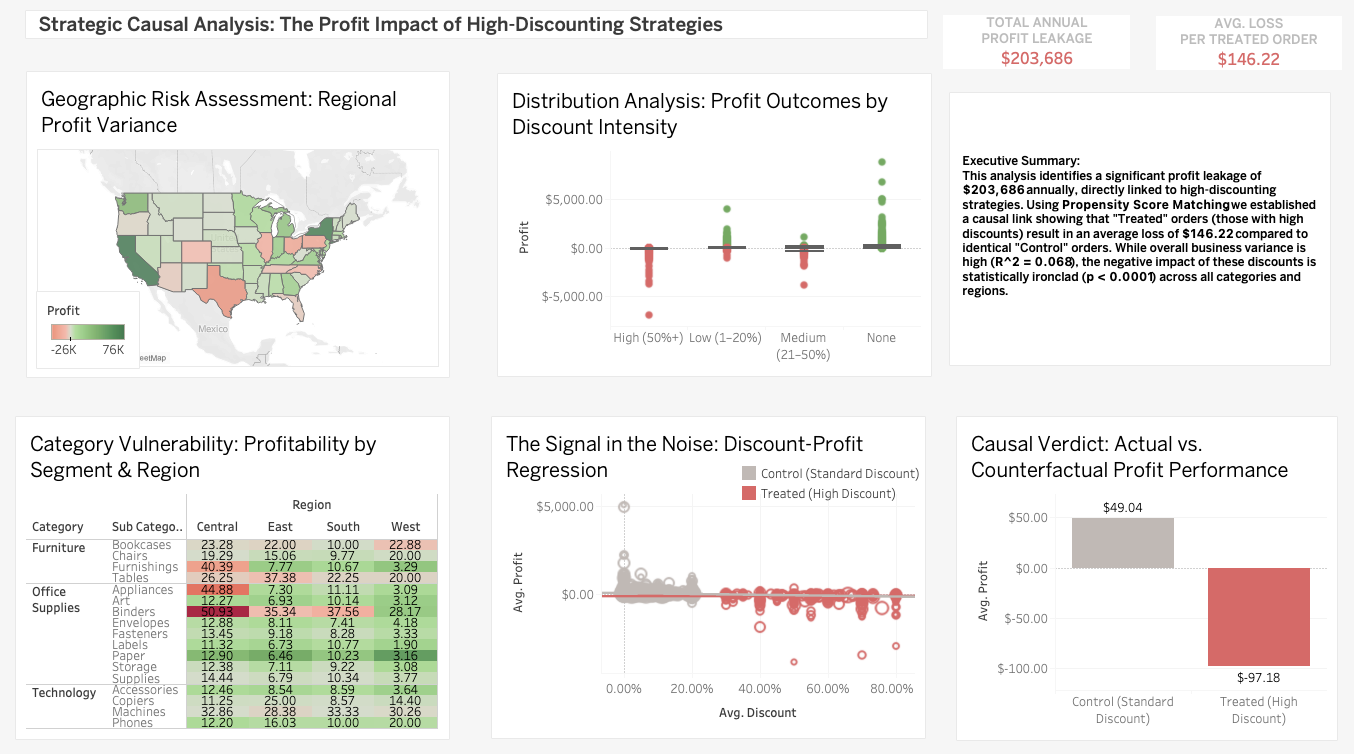

Layout of this report page (visuals, bound fields, positions):
{"tool":"tableau","page":{"name":"Dashboard 4","canvas":[1366,768],"ordinal":0},"visuals":[{"type":"text","box":[16,6,923,49]},{"type":"worksheet","title":"Sheet 10","mark":"Automatic","box":[940,17,195,62]},{"type":"worksheet","title":"Sheet 11","mark":"Automatic","box":[1153,18,194,62]},{"type":"worksheet","title":"Sheet 6","mark":"Automatic","box":[17,67,444,327]},{"type":"worksheet","title":"Sheet 5","mark":"Circle","rows":["profit"],"cols":["discount_bin"],"box":[488,69,455,324]},{"type":"text","box":[940,88,402,294]},{"type":"legend","title":"Sheet 6","param":"[federated.165vwj91f5bvqc13ddn6w0i8qt7e].[sum:profit:qk]","box":[37,297,104,78]},{"type":"worksheet","title":"Sheet 7","mark":"Square","rows":["category","sub_category"],"cols":["region"],"box":[6,412,455,344]},{"type":"worksheet","title":"Sheet 9","mark":"Automatic","rows":["profit"],"cols":["discount"],"box":[482,412,455,343]},{"type":"worksheet","title":"Sheet 8","mark":"Bar","rows":["profit"],"cols":["is_treated"],"box":[947,412,402,345]},{"type":"legend","title":"Sheet 9","param":"[federated.165vwj91f5bvqc13ddn6w0i8qt7e].[none:is_treated:ok]","box":[740,469,185,40]}]}

Visuals, with their boxes in screenshot pixels (x1, y1, x2, y2), scaled from the page's 1366x768 canvas onto the 1354x754 screenshot:
text: <box>16,6,931,54</box>
"Sheet 10" worksheet: <box>932,17,1125,78</box>
"Sheet 11" worksheet: <box>1143,18,1335,79</box>
"Sheet 6" worksheet: <box>17,66,457,387</box>
"Sheet 5" worksheet (Circle marks): <box>484,68,935,386</box>
text: <box>932,86,1330,375</box>
"Sheet 6" legend: <box>37,292,140,368</box>
"Sheet 7" worksheet (Square marks): <box>6,404,457,742</box>
"Sheet 9" worksheet: <box>478,404,929,741</box>
"Sheet 8" worksheet (Bar marks): <box>939,404,1337,743</box>
"Sheet 9" legend: <box>733,460,917,500</box>
